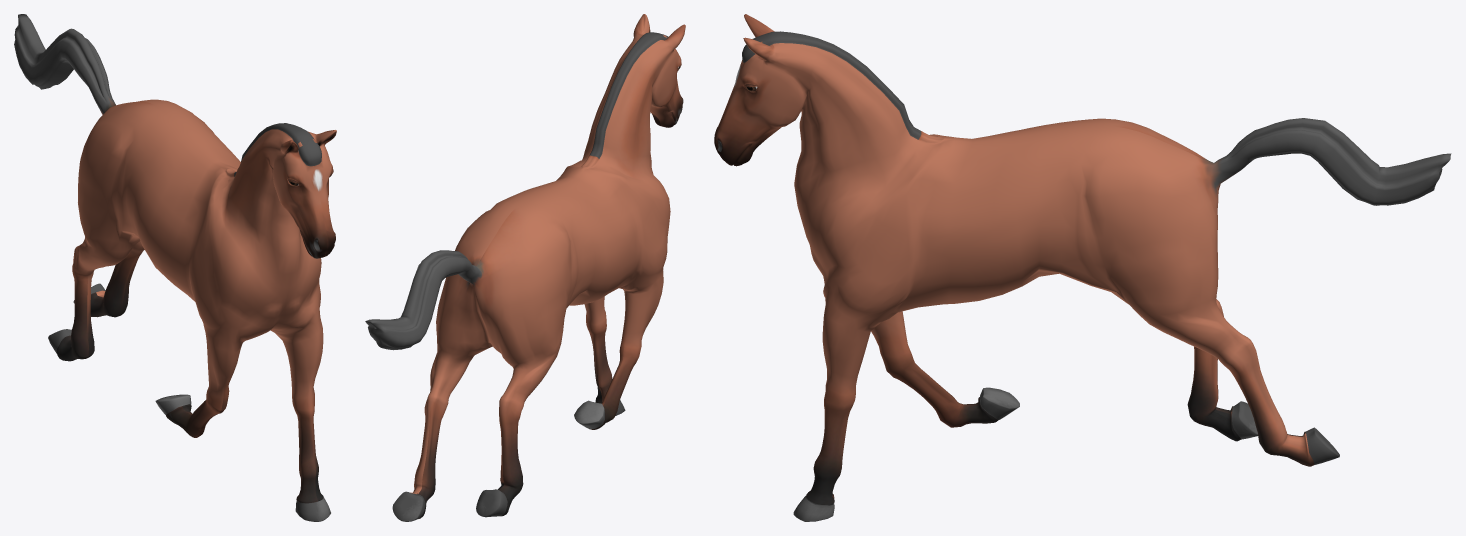
The model's file is horse_obj_14.obj.
The picture shows the model from 3 angles, left to right: view 1: azimuth 30°, elevation 25°; view 2: azimuth 150°, elevation 25°; view 3: azimuth 270°, elevation 25°; orthographic projection. The views are drawn at different scales.
Parts seen in each view (by area): view 1: Figure_1; view 2: Figure_1; view 3: Figure_1.
Part boxes in pixels (x1,y1,x2,y2): Figure_1: (14,14,336,521); Figure_1: (365,14,685,521); Figure_1: (714,14,1451,521).
Size of the model in its own units: 0.2427 by 0.8275 by 1.17.
7 materials, 7 textured.
